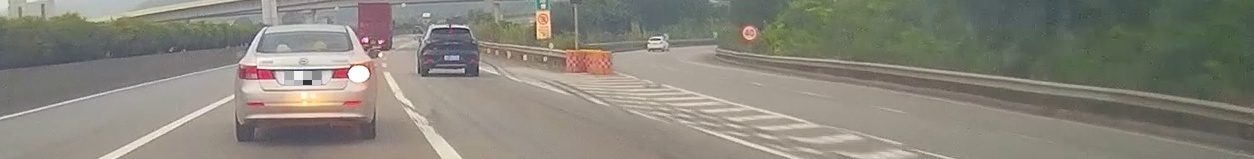L_light: (238, 63, 275, 80), (424, 40, 433, 44)
R_light: (331, 61, 372, 79), (470, 40, 477, 44)
T_light: (295, 31, 311, 36), (449, 28, 455, 31)
day-no: (420, 27, 478, 76)
day-right: (235, 25, 376, 141)
plate_1: (285, 71, 321, 85)
